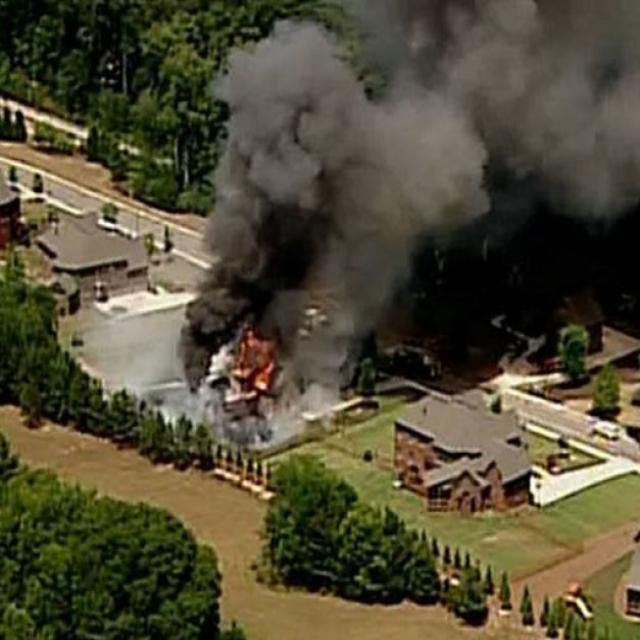Smoke: (201, 0, 622, 417)
